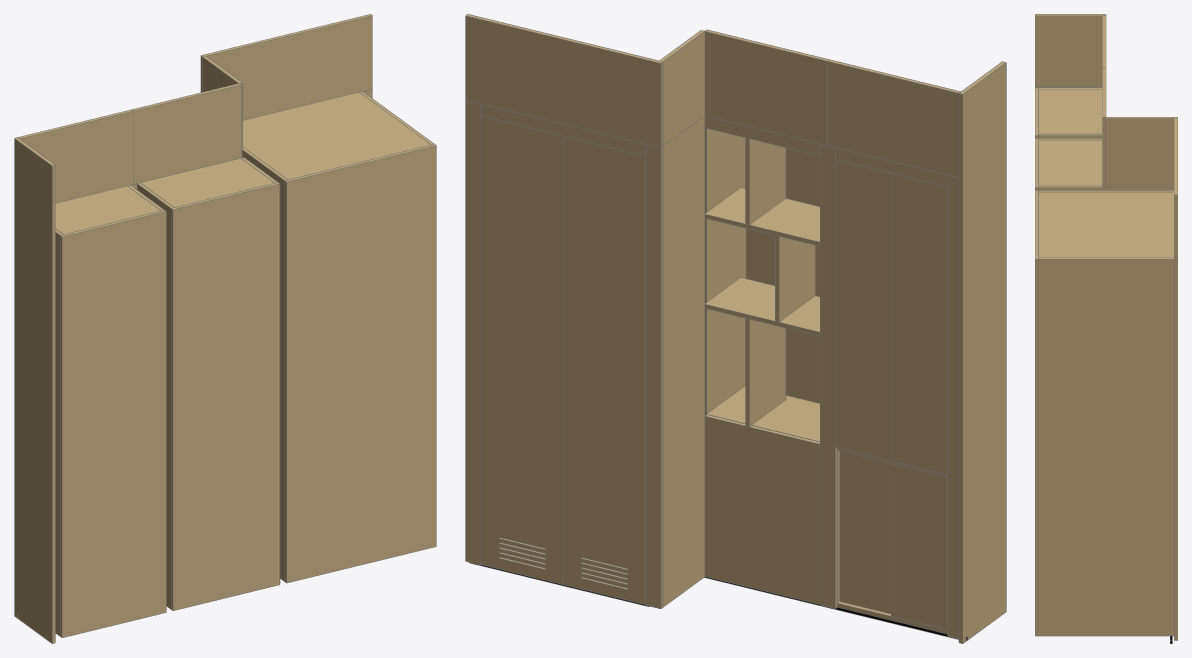
Rendered from modell.glb.
3 views of the same model, side by side, from view 1: azimuth 30°, elevation 25°; view 2: azimuth 150°, elevation 25°; view 3: azimuth 270°, elevation 25° (orthographic). The views are drawn at different scales.
Size of the model in its own units: 2420 by 2803 by 808.
